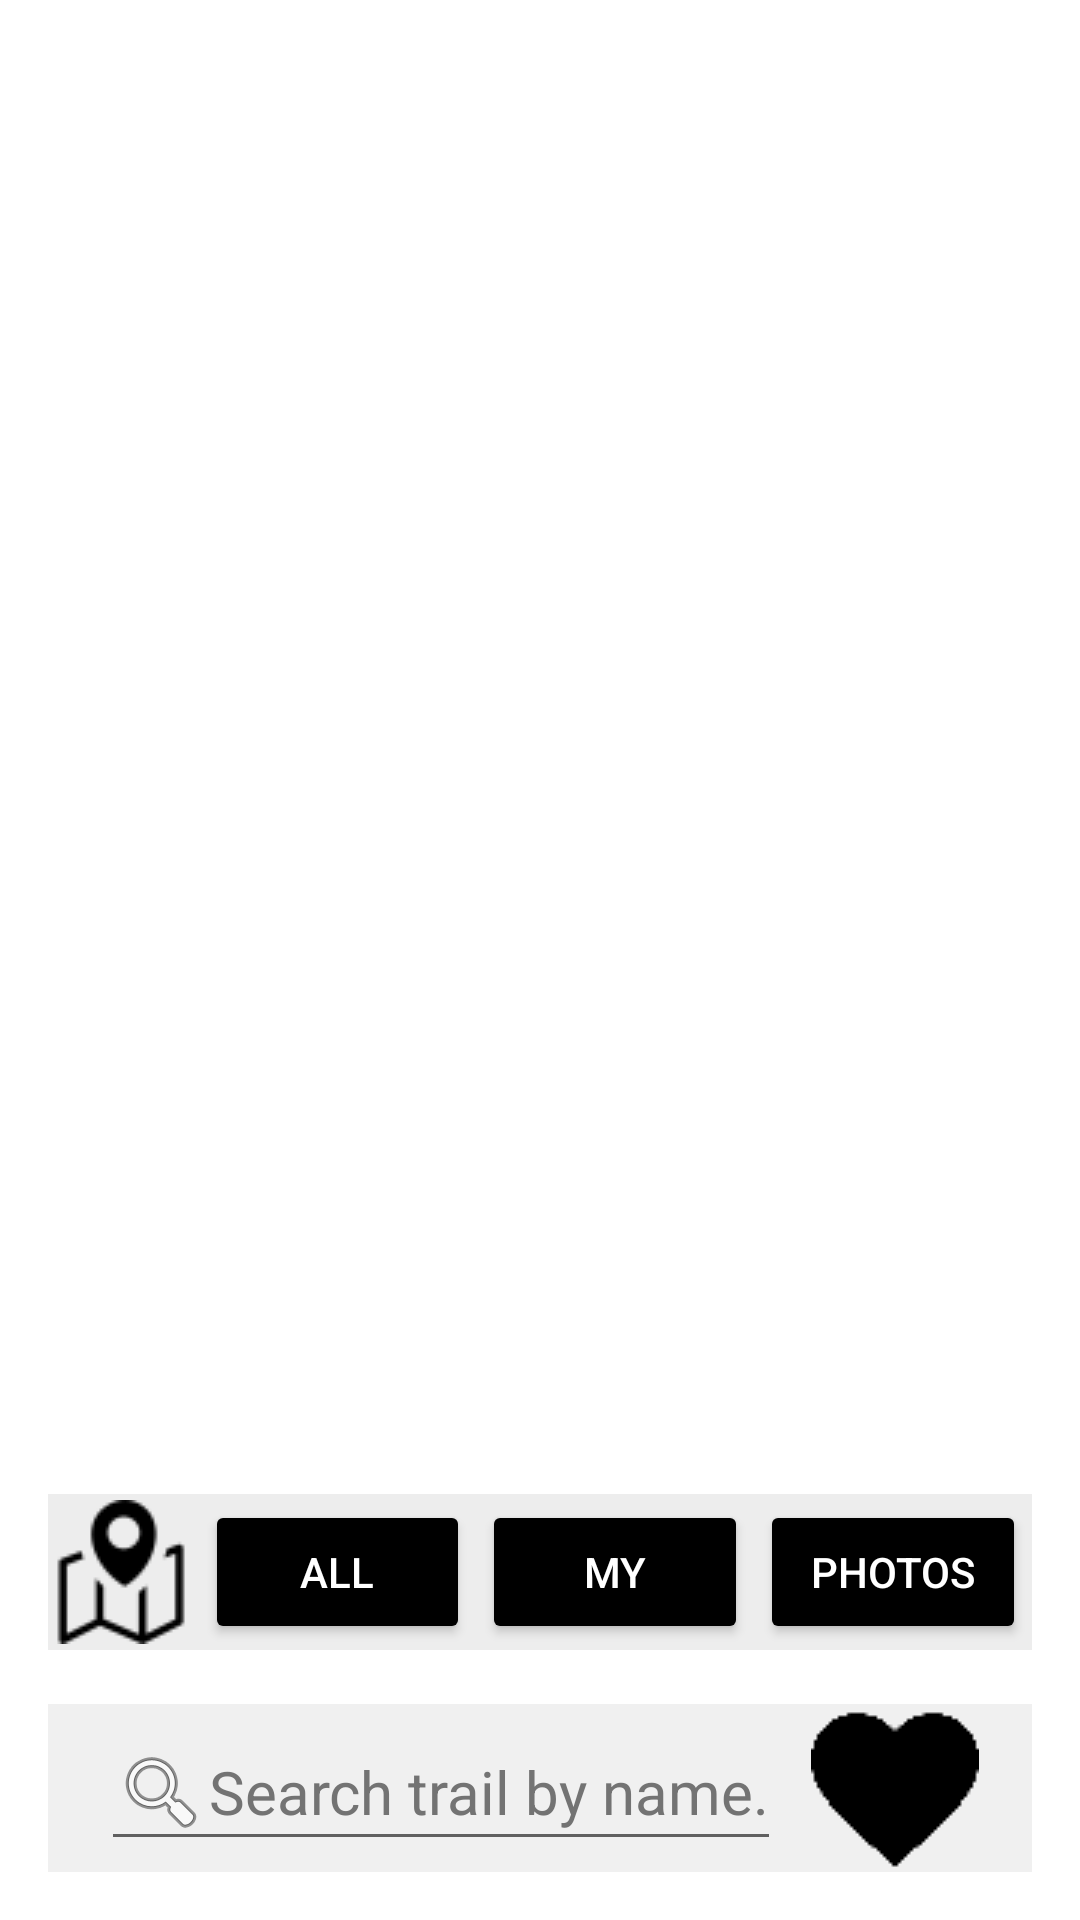

Icons on this 1080px×1920px Android screen, each with the point to tap as (x,y):
Back to map: (121,1572)
Favorites: (895,1789)
